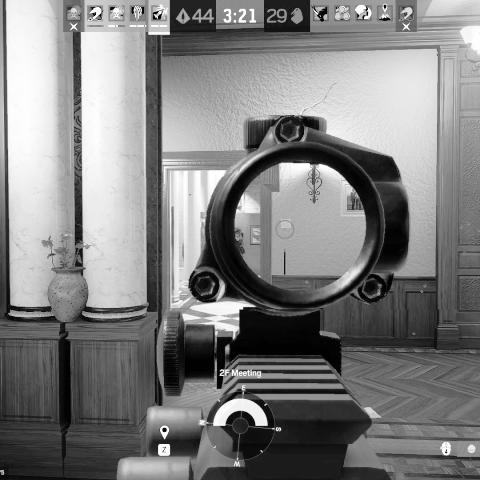Character: (234, 224, 247, 257)
Head: (235, 229, 243, 239)
